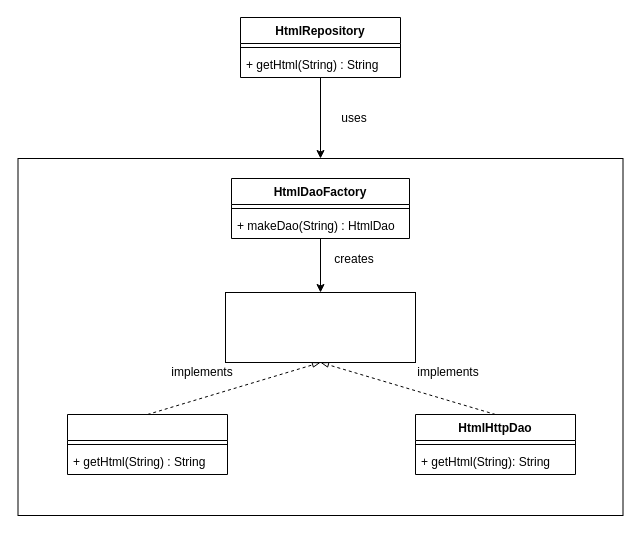
Image size: 640x533. Some labels were removed from this diagram. The box of each missing label's shape, as (x1, y1, x2, y2) in pixels:
<<Interface>> HtmlDao + getHtml(String) : String: (224, 292, 416, 362)
HtmlFileDao: (66, 414, 228, 474)
